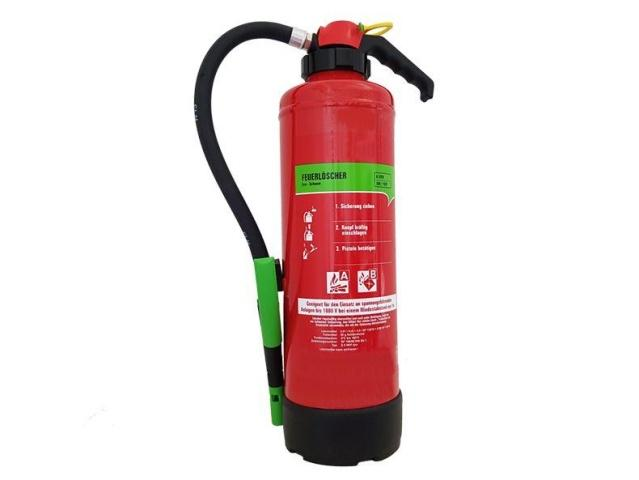APAR: (278, 17, 433, 465)
